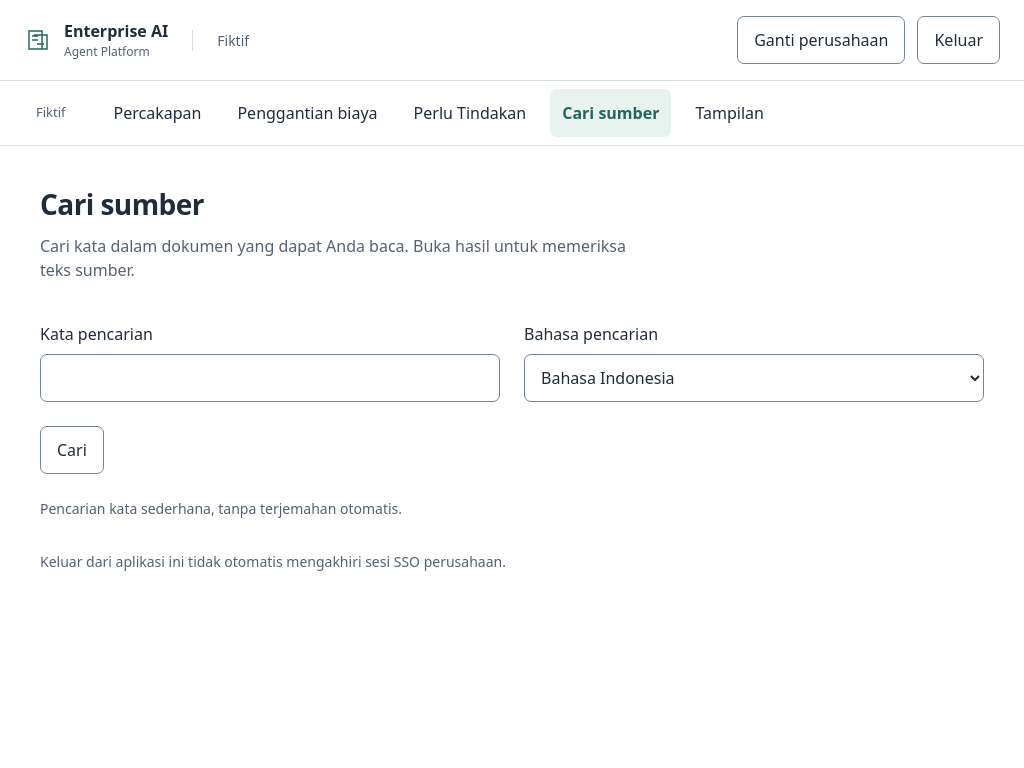
Test case: shows a successful authorized empty search without treating it as denial
Type "biaya & perjalanan" into the field labelled "Kata pencarian" at {"x": 270, "y": 378}, box [40,354,500,402]
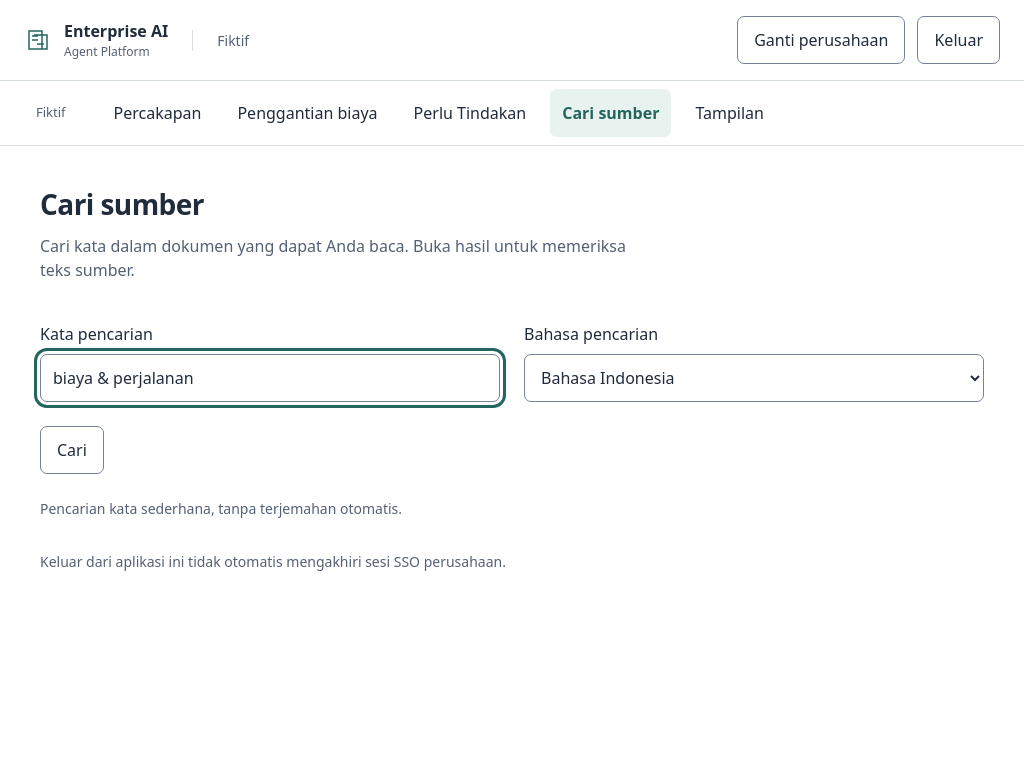
Click the button "Cari" at {"x": 72, "y": 450}, box [40,426,104,474]
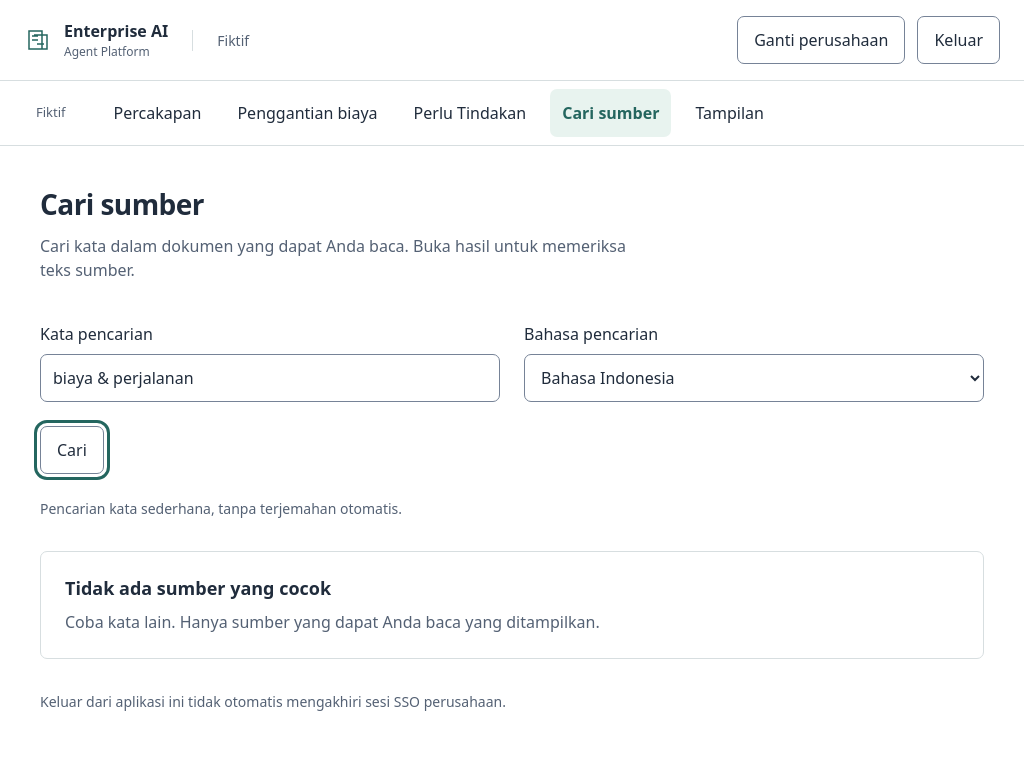
Expected: the heading "Tidak ada sumber yang cocok" is shown, [65,576,331,600]
